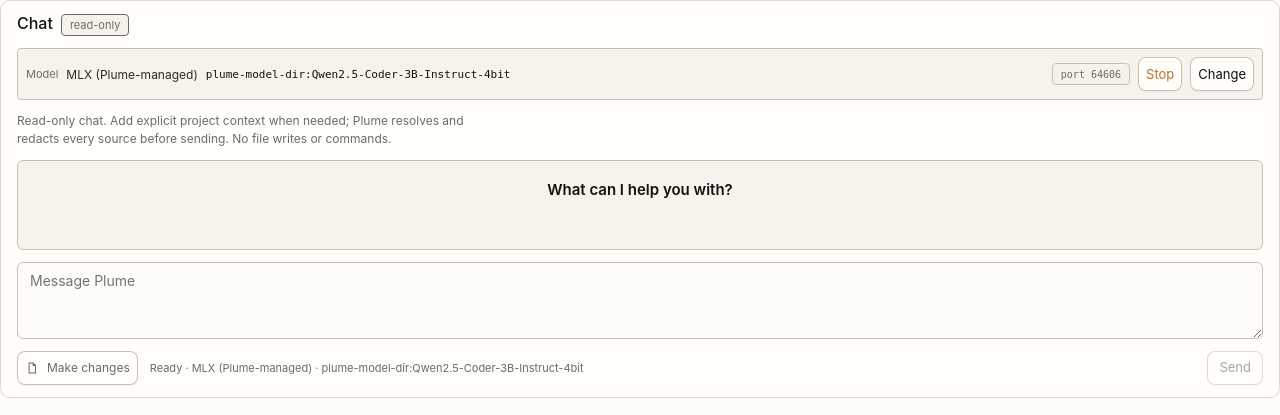
Scenario: ChatPanel › keeps the form non-shrinking and enables Send for a running MLX handle
Expected: the form is shown, [17,262,1263,385]
Expected: the button with aria-label "Send message" is disabled, [1207,351,1263,385]
Step 1. Type "say hi" into the text box named "Message to send" → (640, 301), box [17,262,1263,339]
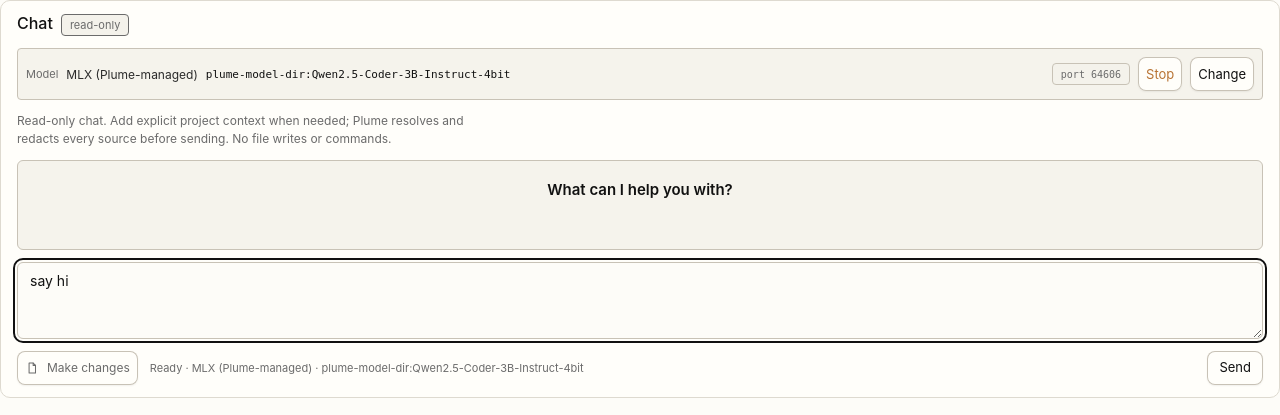
Result: the button with aria-label "Send message" is enabled at [1207,351,1263,385]
